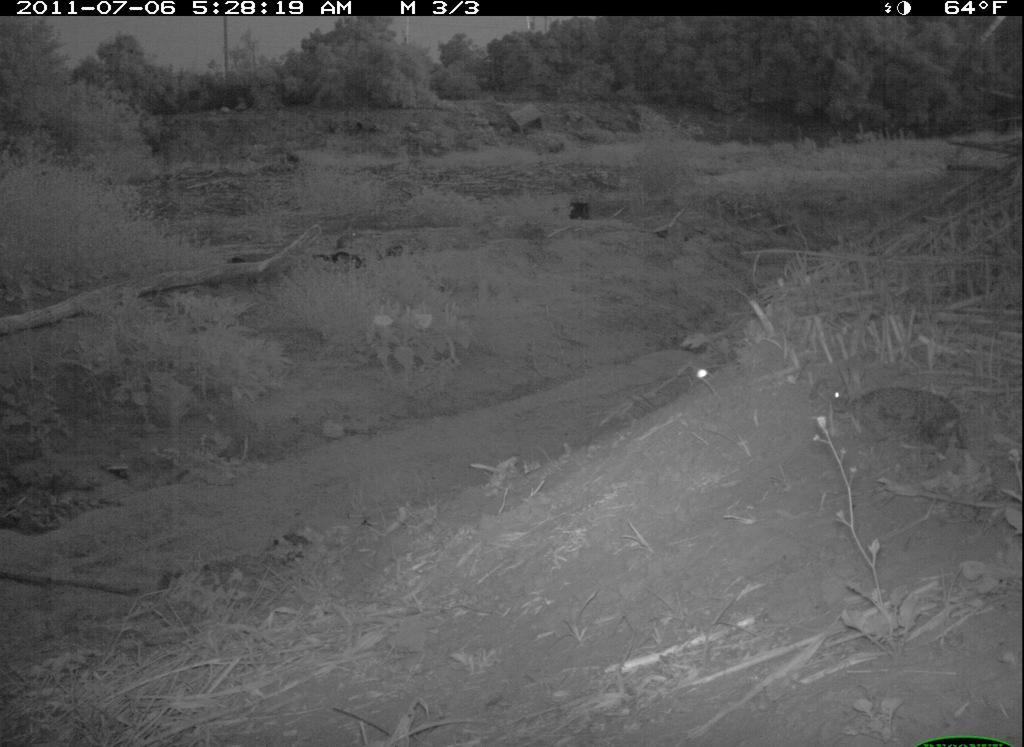rabbit: (815, 355, 972, 473)
